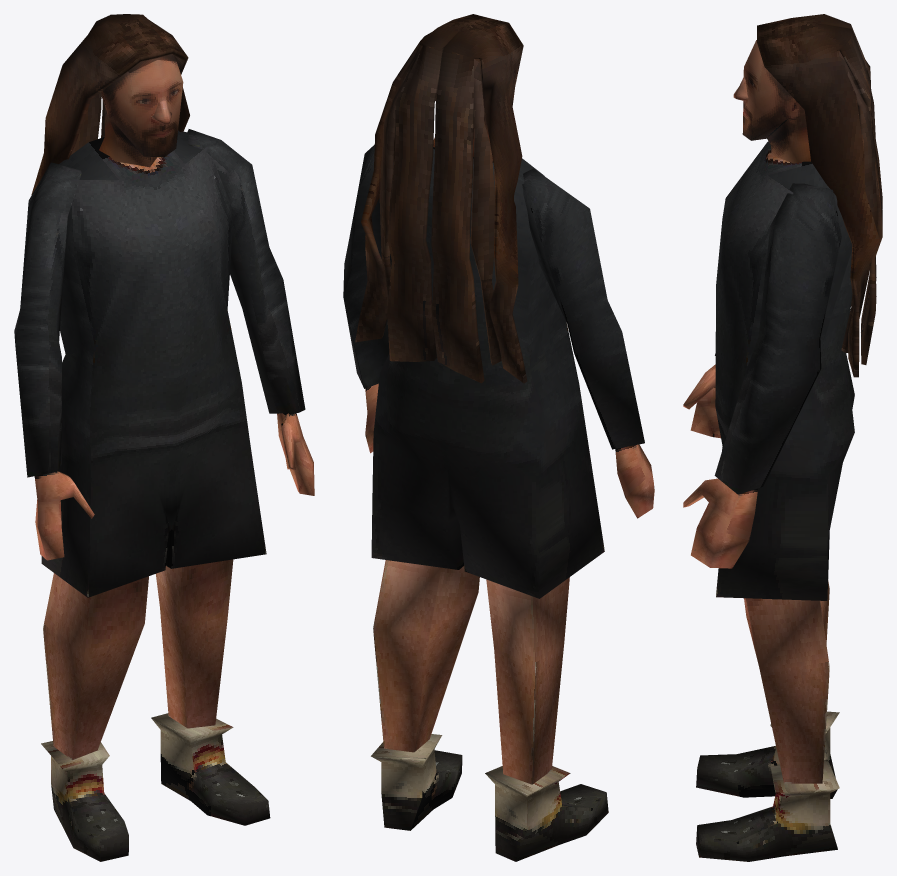
The model's file is will.glb.
3 views of the same model, side by side, from view 1: azimuth 30°, elevation 25°; view 2: azimuth 150°, elevation 25°; view 3: azimuth 270°, elevation 25° (orthographic). The views are drawn at different scales.
Parts seen in each view (by area): view 1: body-mk2; view 2: body-mk2; view 3: body-mk2.
Boxes of the visible parts, x1=… form: body-mk2: x1=14, y1=14, x2=314, y2=861; body-mk2: x1=343, y1=14, x2=654, y2=861; body-mk2: x1=683, y1=14, x2=882, y2=861.
Bounding box in the file's own units: 0.6969 × 1.87 × 0.4237.
Materials: 2 (2 with a texture image).
